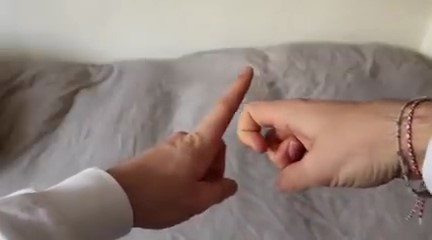K: (109, 52, 411, 236)
